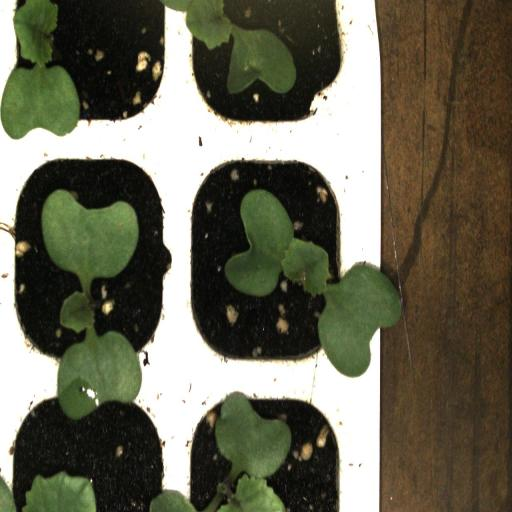seedling: (176, 137, 362, 374), (6, 136, 176, 375), (181, 368, 358, 512), (176, 0, 362, 137), (4, 0, 173, 137)
